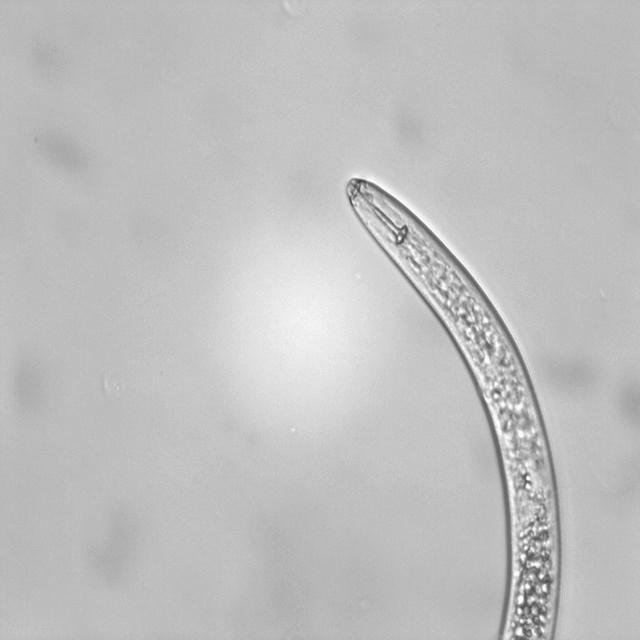Helicotylenchus: (332, 166, 580, 640)
